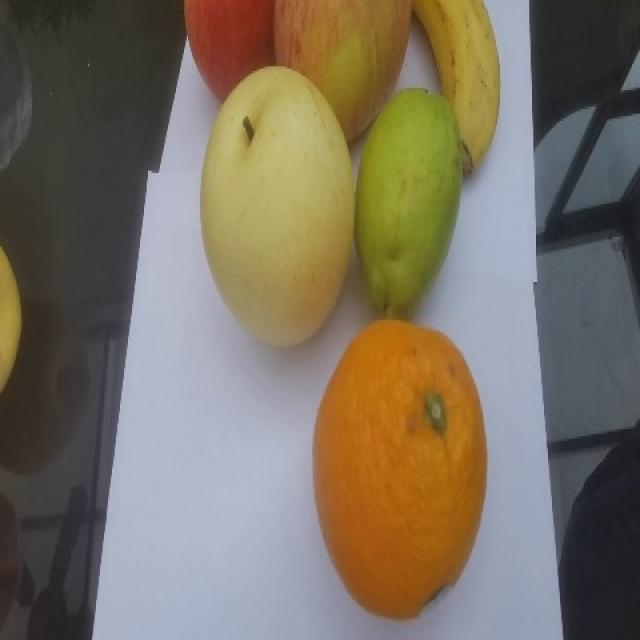Apple: (272, 0, 413, 143), (183, 0, 275, 103)
Orange: (311, 317, 488, 620)
